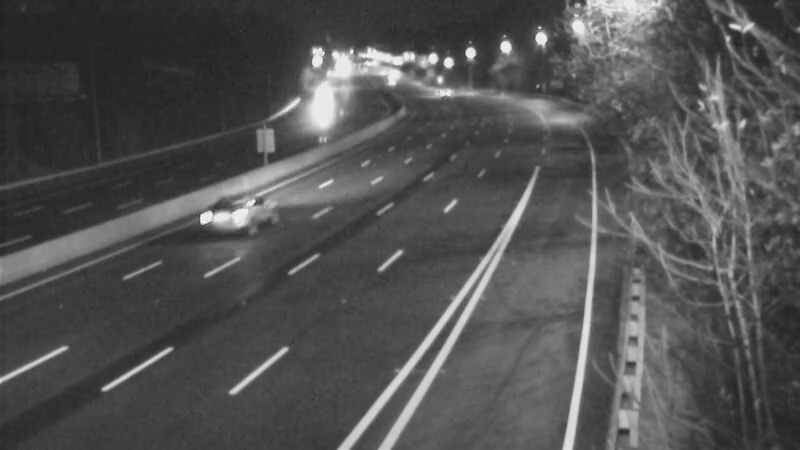vehicle: (186, 174, 266, 254), (364, 58, 414, 108), (407, 68, 457, 118), (300, 76, 350, 126)
